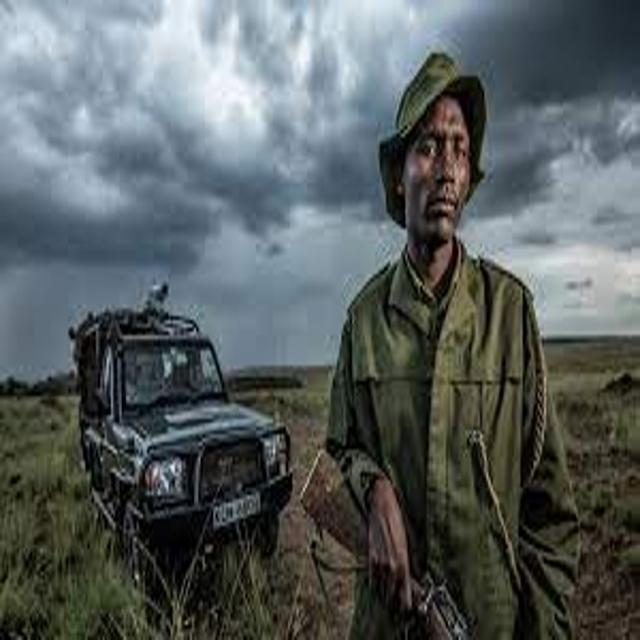poacher: (280, 31, 607, 637)
